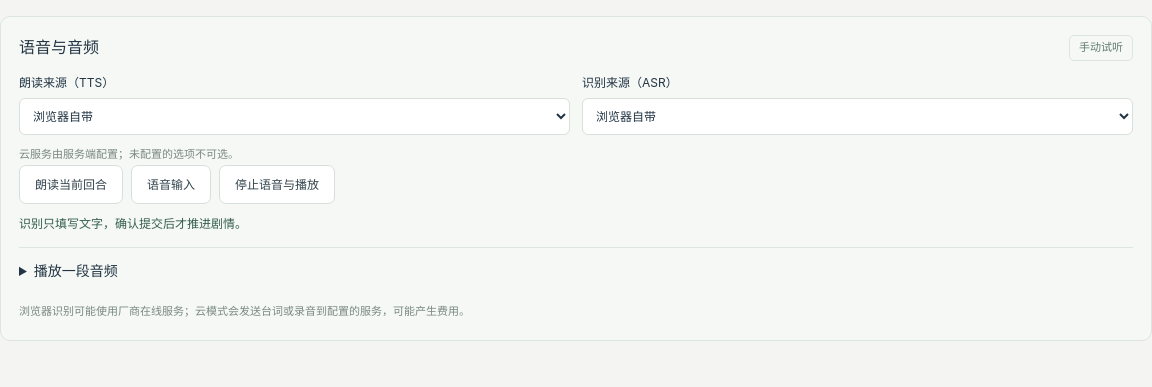
Test: simulator speech A01–A05 › uploads cloud recording only after finish, fills valid text, and rejects invalid responses
This screenshot has width=1152, height=387.
Expected: the text "云服务由服务端配置；未配置的选项不可选。" is shown, [19,147,239,161]
Select "云服务（已配置）" in the dropdown labelled "识别来源（ASR）" at (858, 116), box [582,98,1133,135]
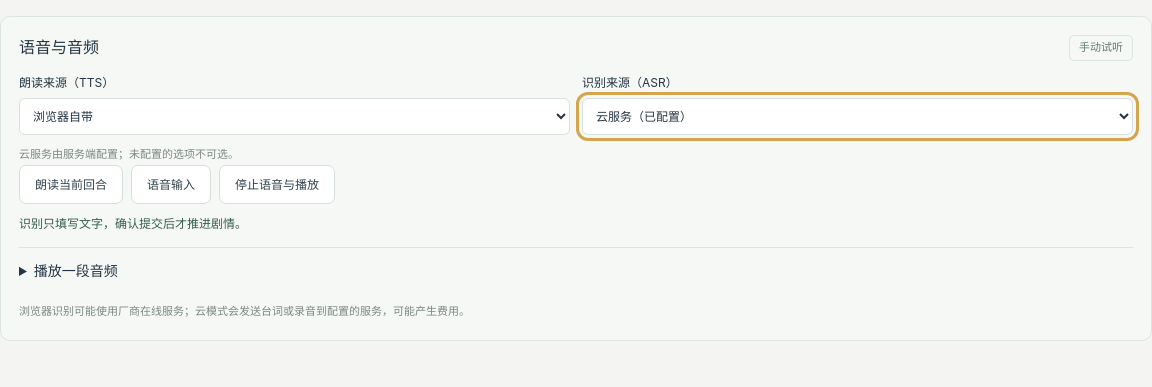
Click the button "语音输入" at (171, 184), box [131,165,211,204]
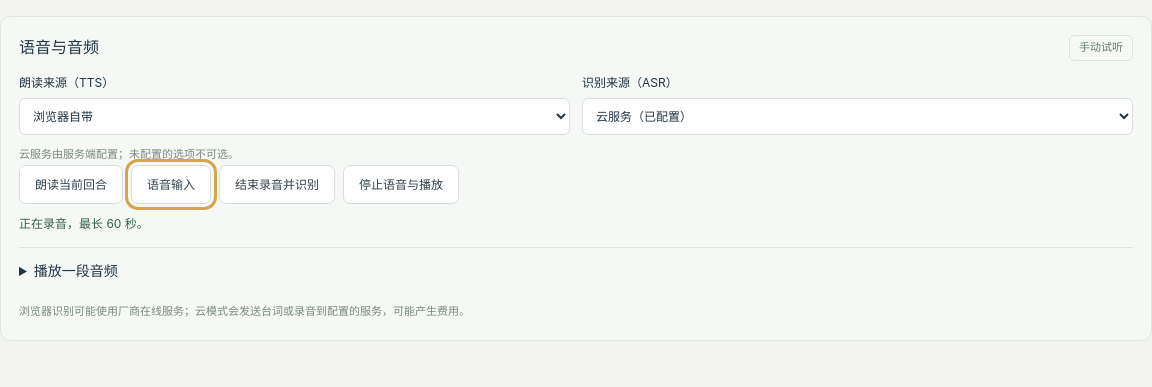
Result: the button "结束录音并识别" is shown
Click the button "结束录音并识别" at (277, 184), box [219,165,335,204]
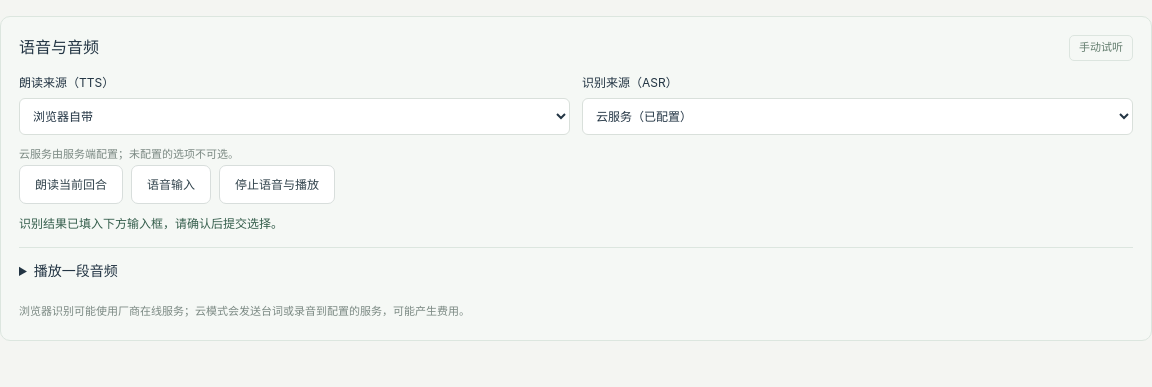
Click the button "语音输入" at (171, 184), box [131,165,211,204]
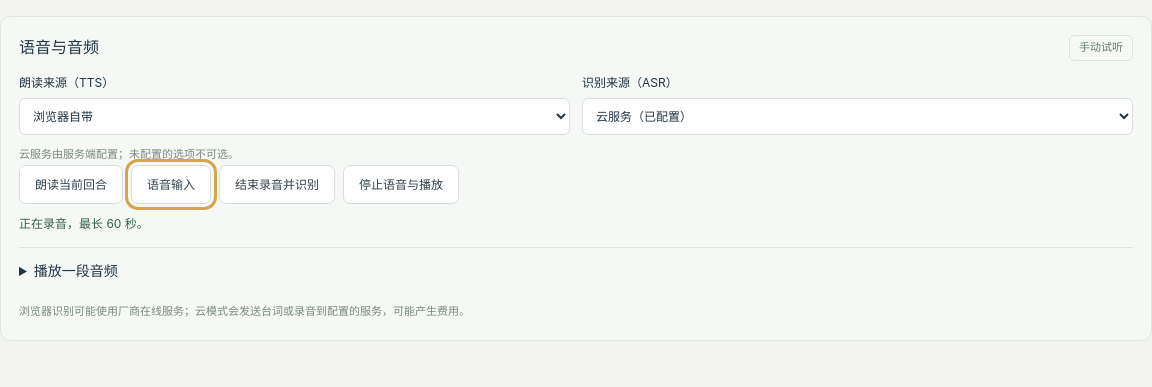
Click the button "结束录音并识别" at (277, 184), box [219,165,335,204]
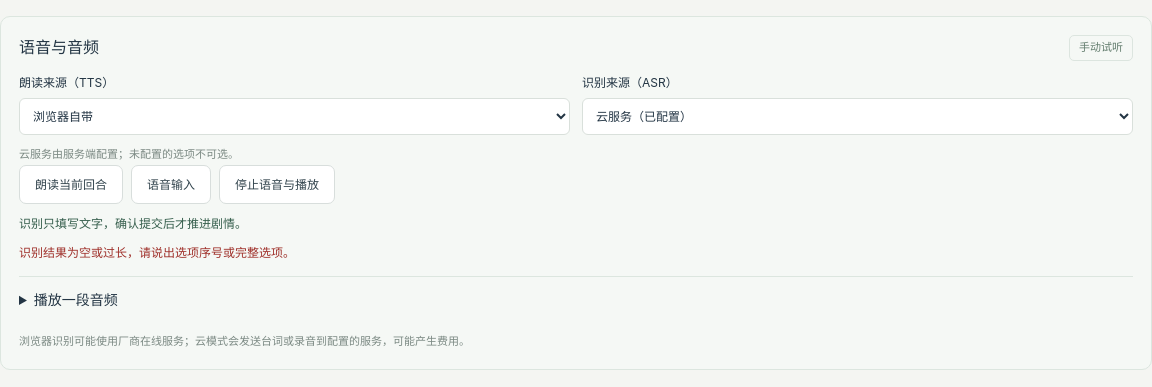
Result: the message "识别结果为空或过长，请说出选项序号或完整选项。" is shown at [19,245,295,260]
